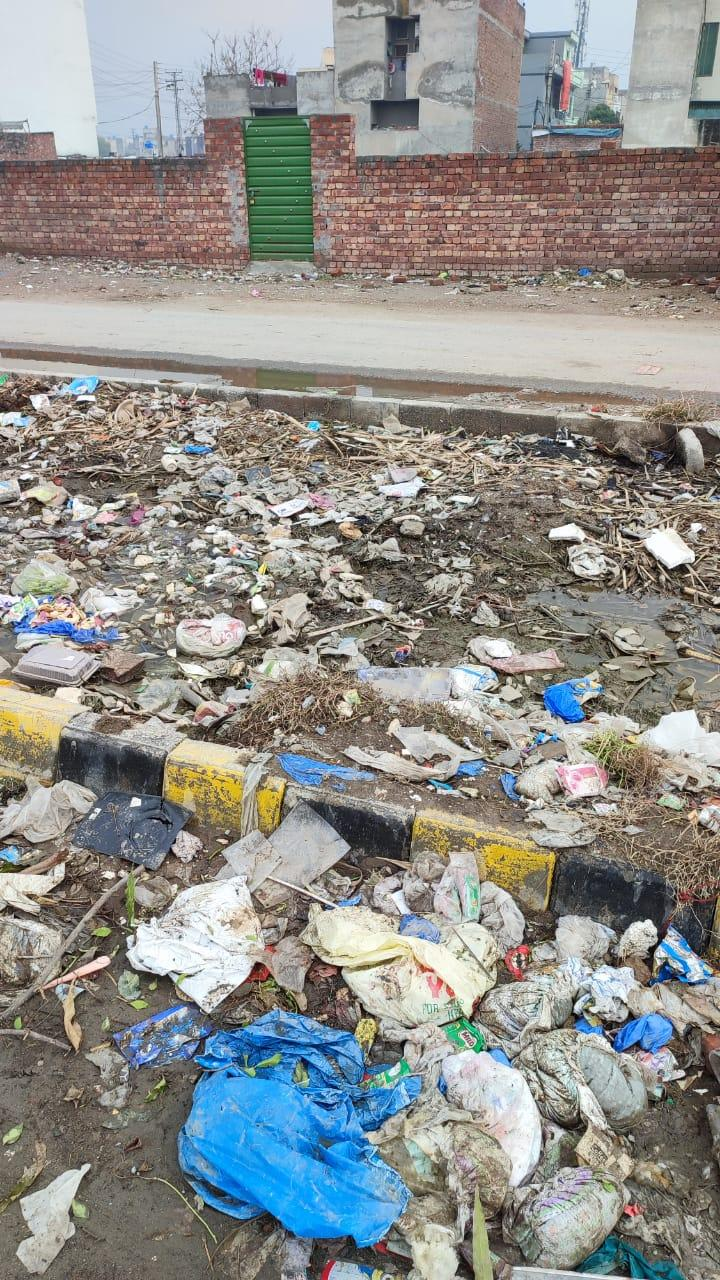garbage: (3, 378, 720, 1267)
